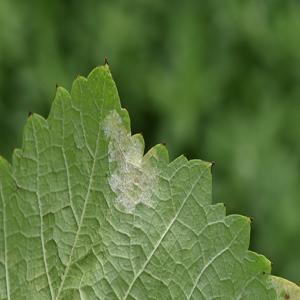Folha: (0, 57, 299, 299)
Fungo: (102, 107, 168, 214), (269, 273, 300, 300), (52, 81, 60, 92), (103, 56, 109, 67), (28, 109, 33, 117), (284, 293, 290, 299), (248, 216, 253, 222), (182, 152, 186, 157), (270, 261, 273, 267), (223, 202, 226, 206), (262, 270, 265, 274)
